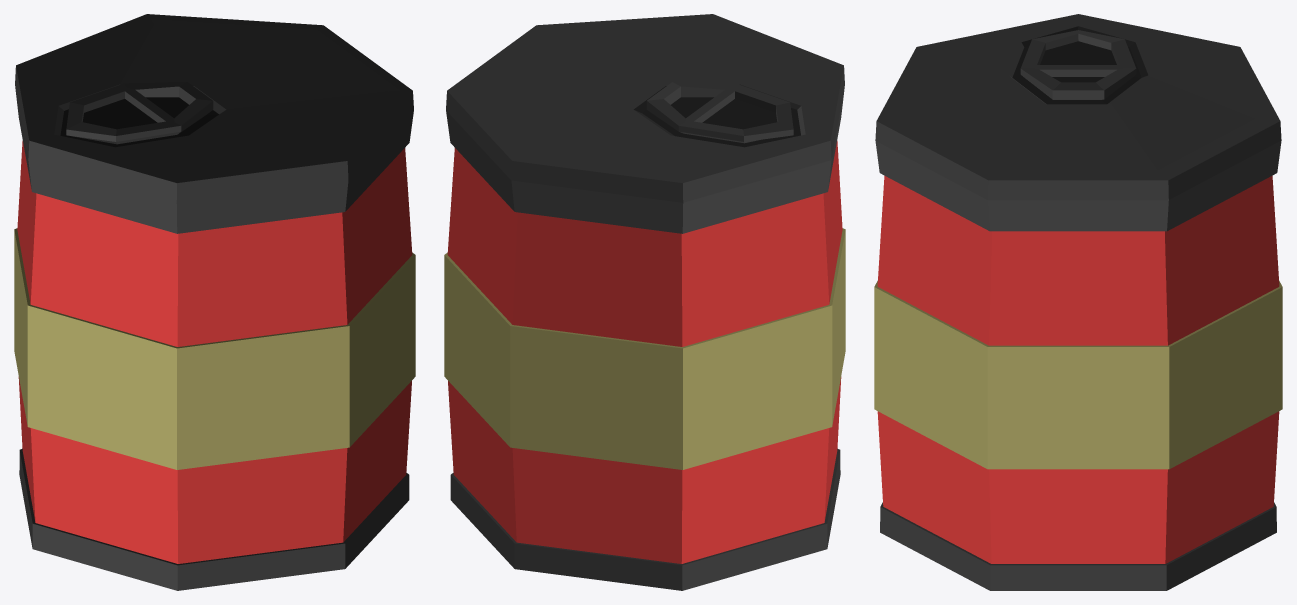
File: Hexagonal Can.fbx
3 views of the same model, side by side, from view 1: azimuth 30°, elevation 25°; view 2: azimuth 150°, elevation 25°; view 3: azimuth 270°, elevation 25° (orthographic).
Parts seen in each view (by area): view 1: Node 0; view 2: Node 0; view 3: Node 0.
Part boxes in pixels (box(x1,y1,x2,y2)): Node 0: box(14, 14, 415, 590); Node 0: box(444, 14, 845, 590); Node 0: box(874, 14, 1282, 590).
Size of the model in its own units: 0.114 by 0.1297 by 0.1111.
